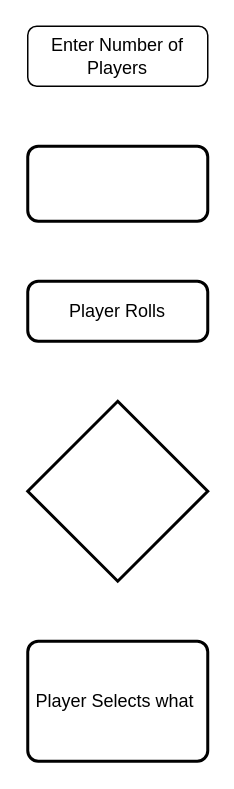
This 234x789 diagram has some shape labels left out. The shapes that lost their labels are listed below. From the top down, each one's centre as x and y in pixels, then its label:
At (117,183): "Each Player Rolls to Determine First Turn".
At (117,490): "Is Player Roll a Farkle?".
